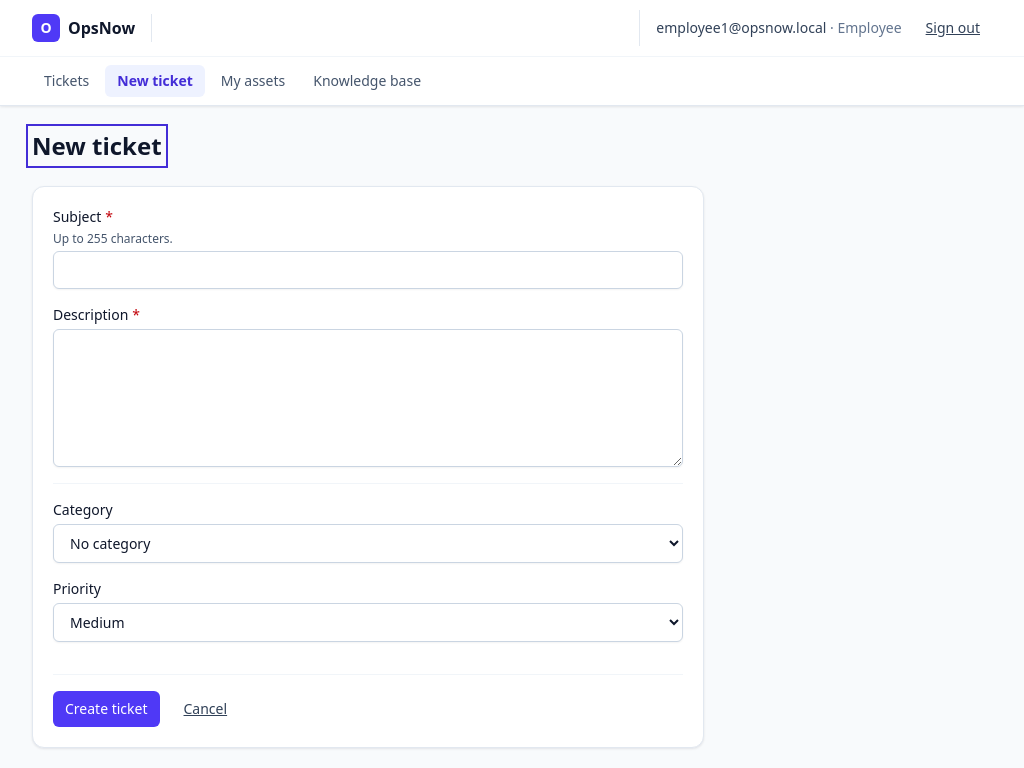
Test: ticket creation — form › creates a ticket and navigates to it
Check: the heading "New ticket" is shown, box 32,130 -> 162,162
Type "Monitor flickers" into the field labelled "Subject*".
click(368, 270); type("Monitor flickers")  # box 53,251 -> 683,289
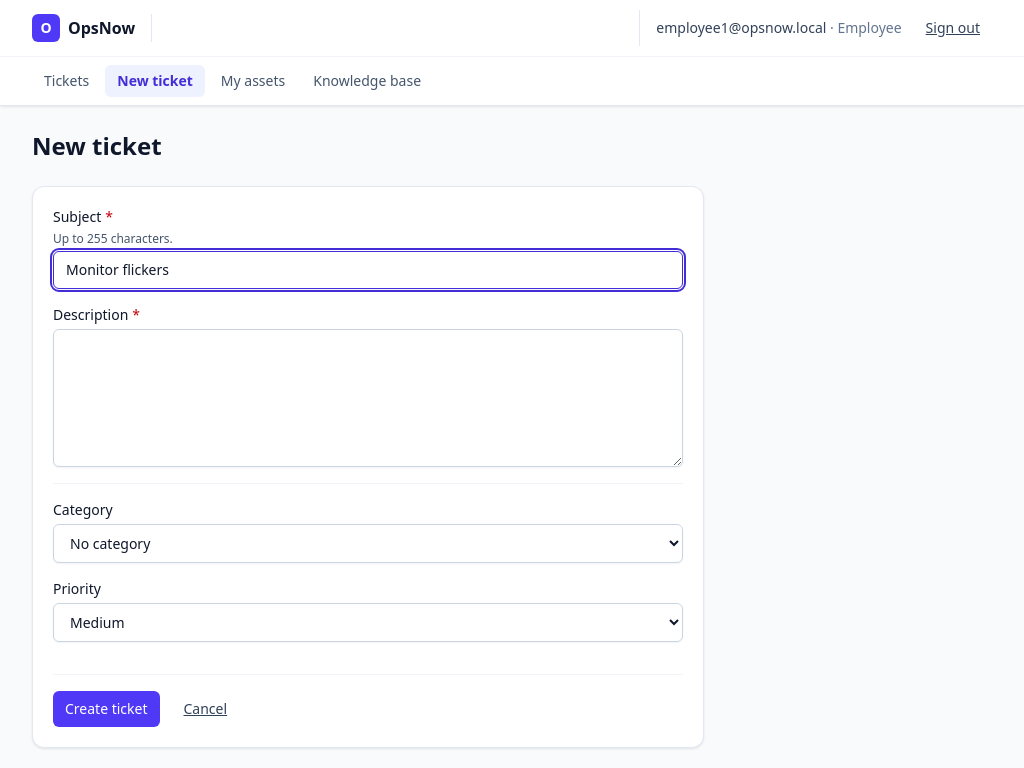
Type "It flickers every few minutes." into the text box labelled "Description*".
click(368, 398); type("It flickers every few minutes.")  # box 53,329 -> 683,467
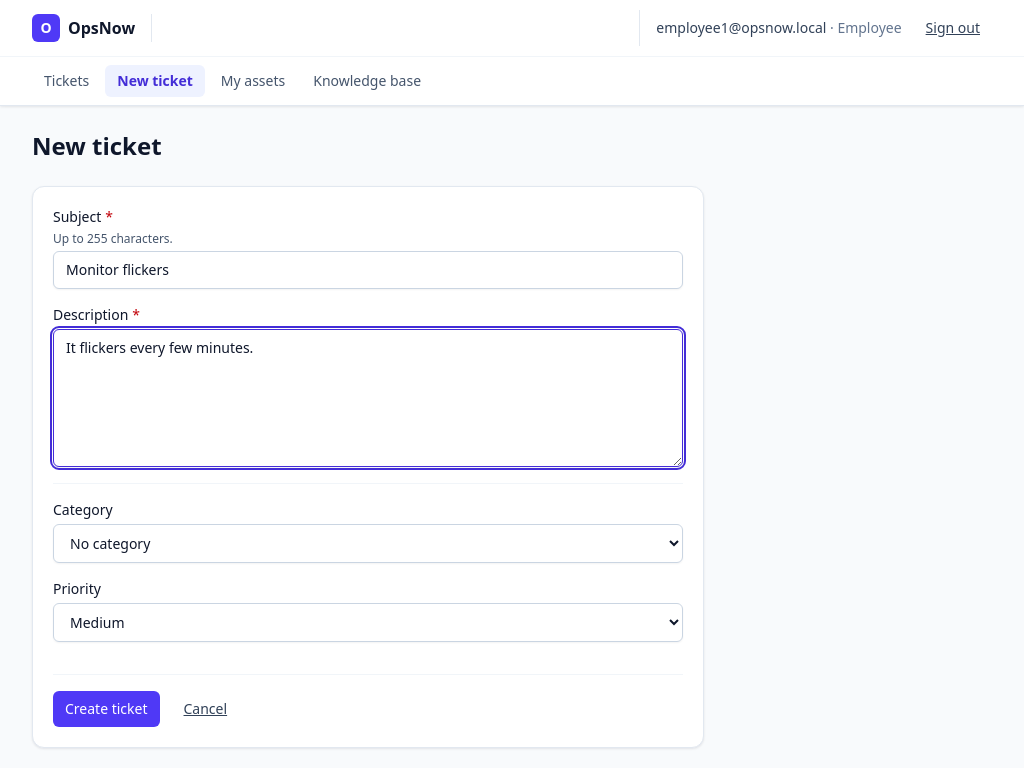
Select "Laptop" in the dropdown labelled "Category" at coordinates (368, 544), box 53,524 -> 683,563
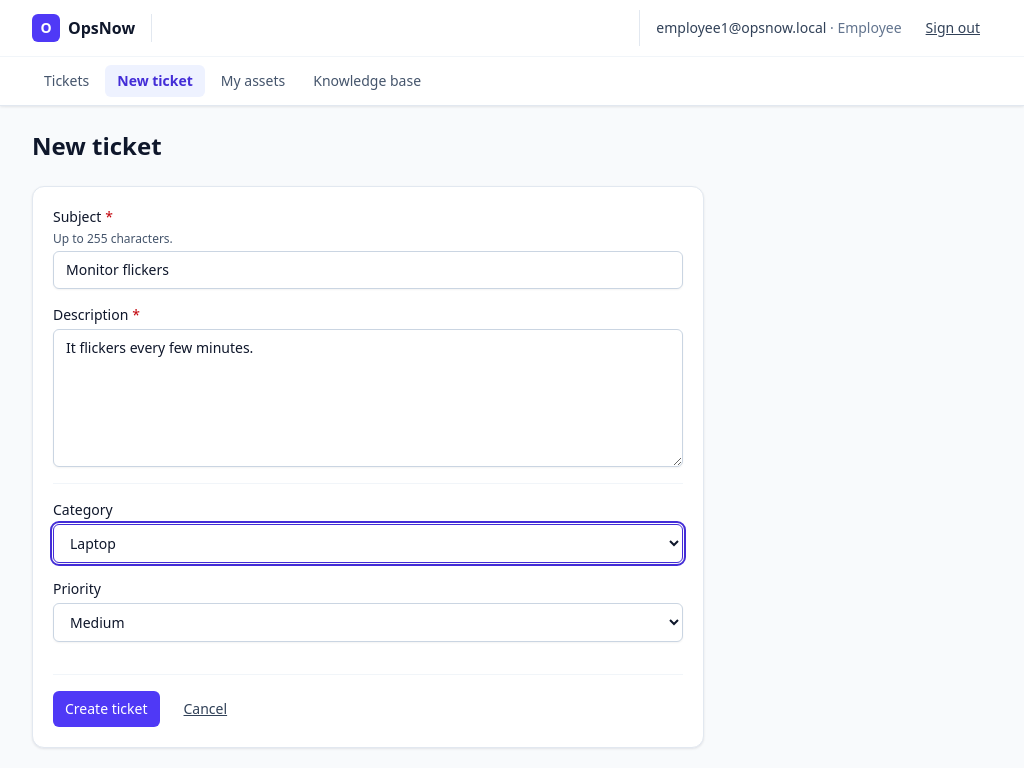
Select "High" in the dropdown labelled "Priority" at coordinates (368, 622), box 53,603 -> 683,642
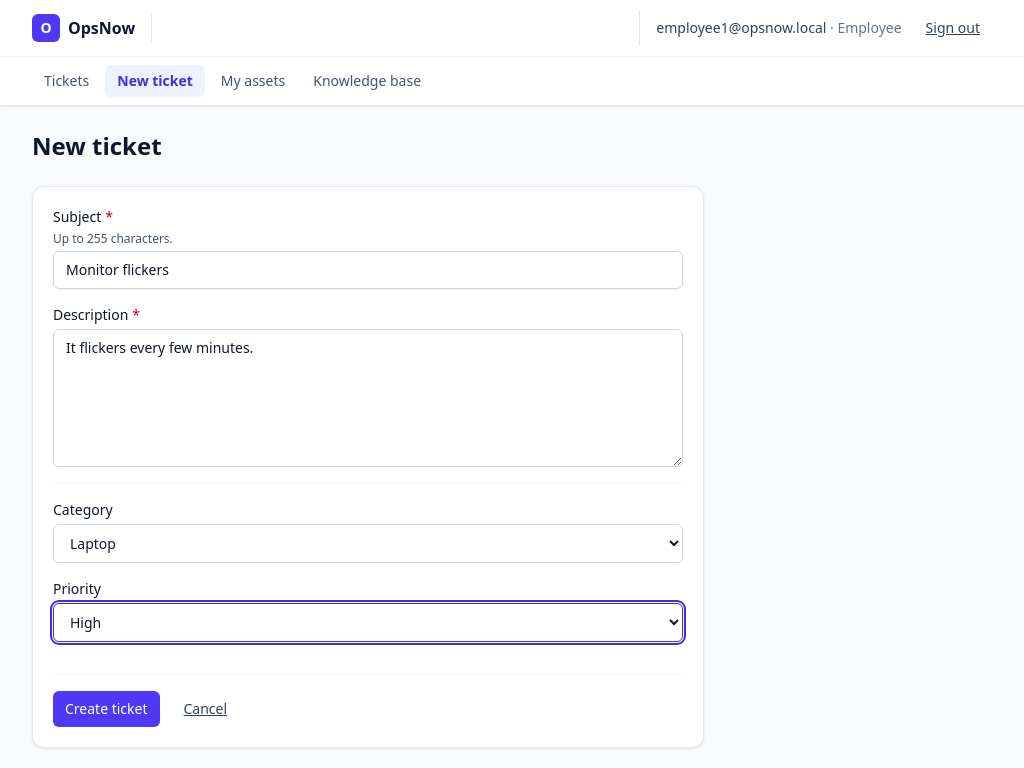
Click the button "Create ticket".
click(106, 709)  # box 53,691 -> 160,727
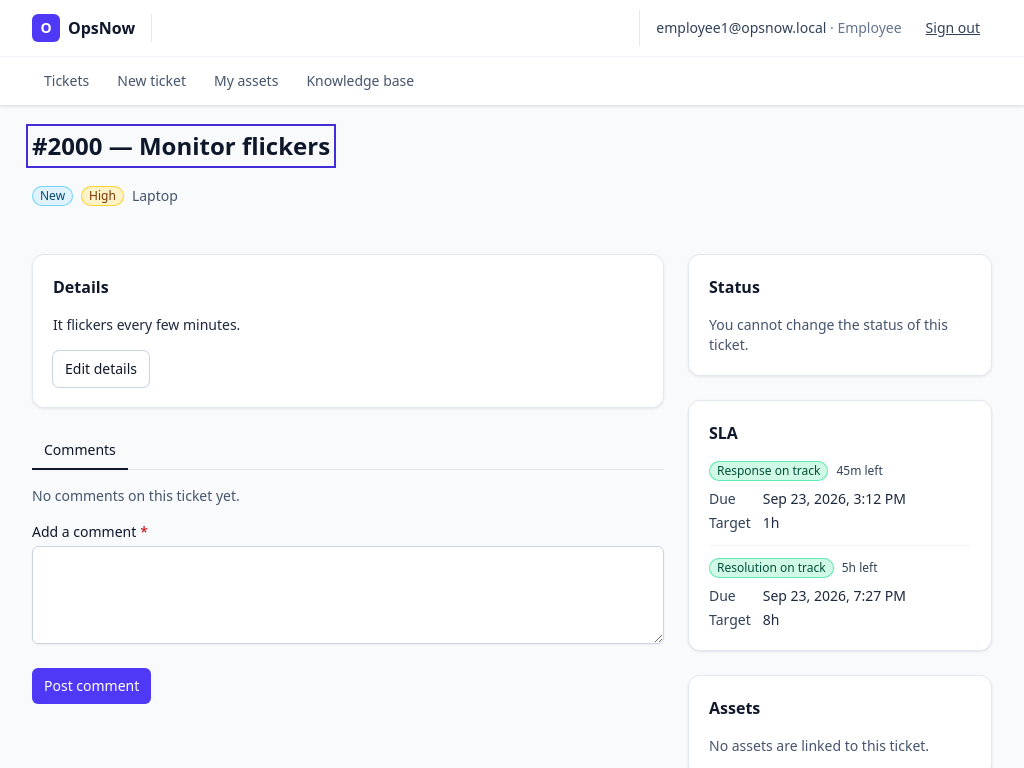
Check: the heading "#2000 — Monitor flickers" is shown, box 32,130 -> 330,162
